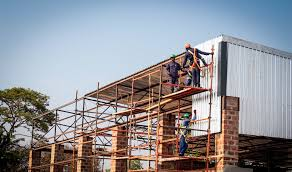helmet: (183, 111, 190, 117), (184, 43, 191, 48), (169, 53, 175, 58)
